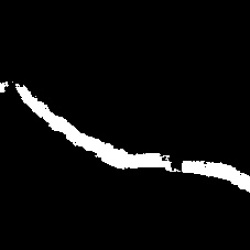crack: (1, 80, 248, 190)
